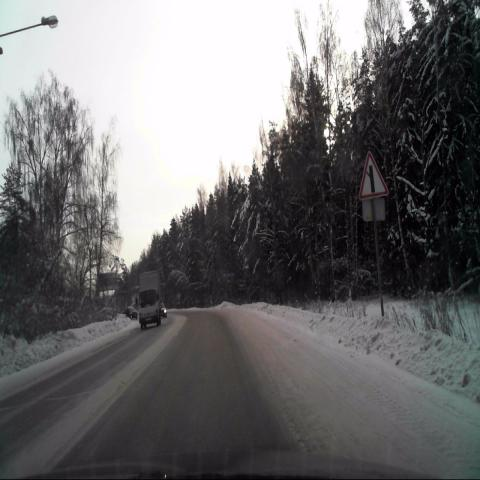2_3_5: (359, 151, 388, 199)
